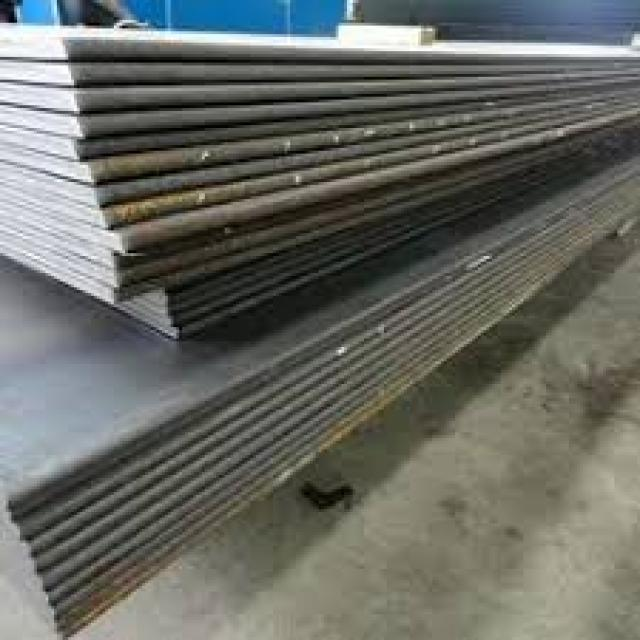Dry: (0, 23, 640, 640)
